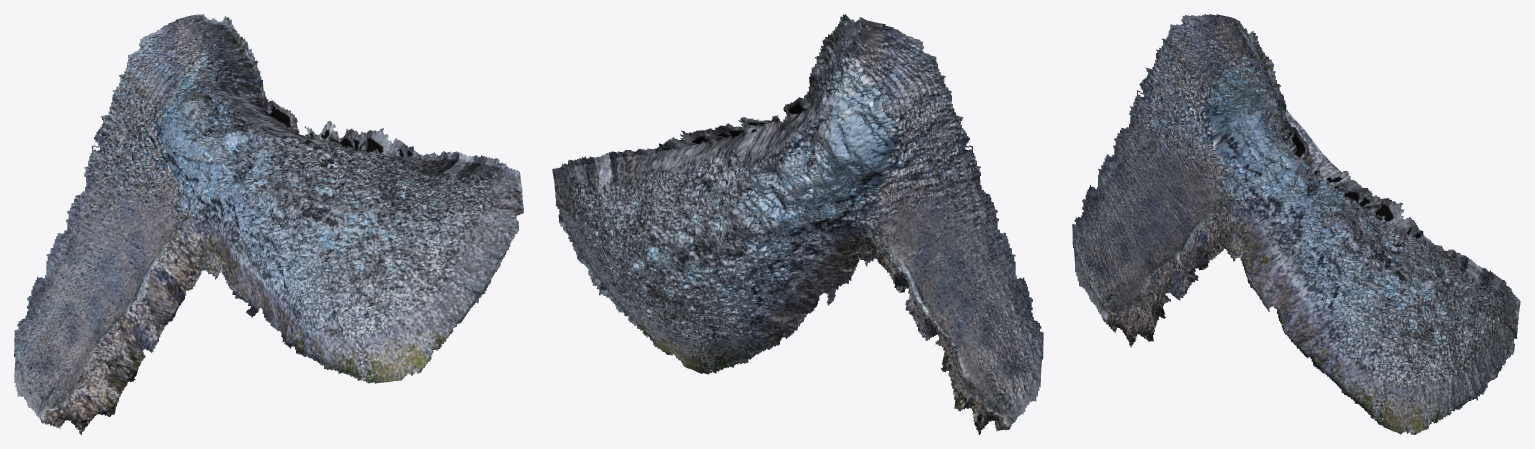
3 views of the same model, side by side, from view 1: azimuth 30°, elevation 25°; view 2: azimuth 150°, elevation 25°; view 3: azimuth 330°, elevation 25° (orthographic). The views are drawn at different scales.
Visible parts, largest first — view 1: sb_dem_scaled; view 2: sb_dem_scaled; view 3: sb_dem_scaled.
Part boxes in pixels (x1,y1,x2,y2): sb_dem_scaled: (14,14,523,434); sb_dem_scaled: (552,14,1043,434); sb_dem_scaled: (1072,14,1520,434).
Bounding box in the file's own units: 1920 × 1485 × 272.
1 material, 1 textured.
